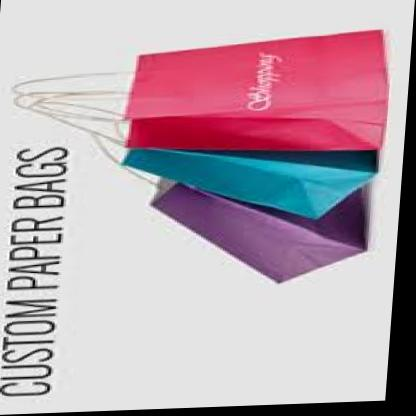Paper: (22, 9, 398, 172), (107, 172, 375, 312), (77, 139, 374, 219)
